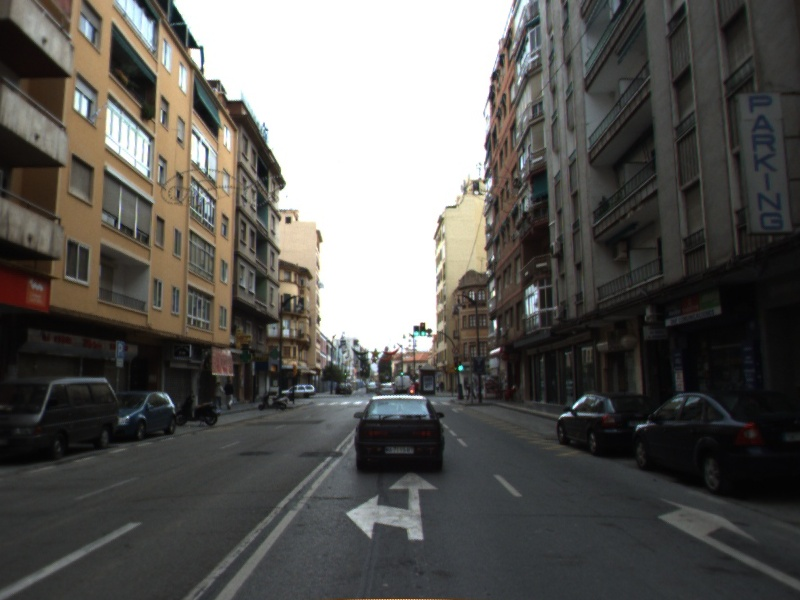RIGHT: (655, 495, 800, 591)
STRAIGHT_LEFT: (344, 470, 439, 542)
